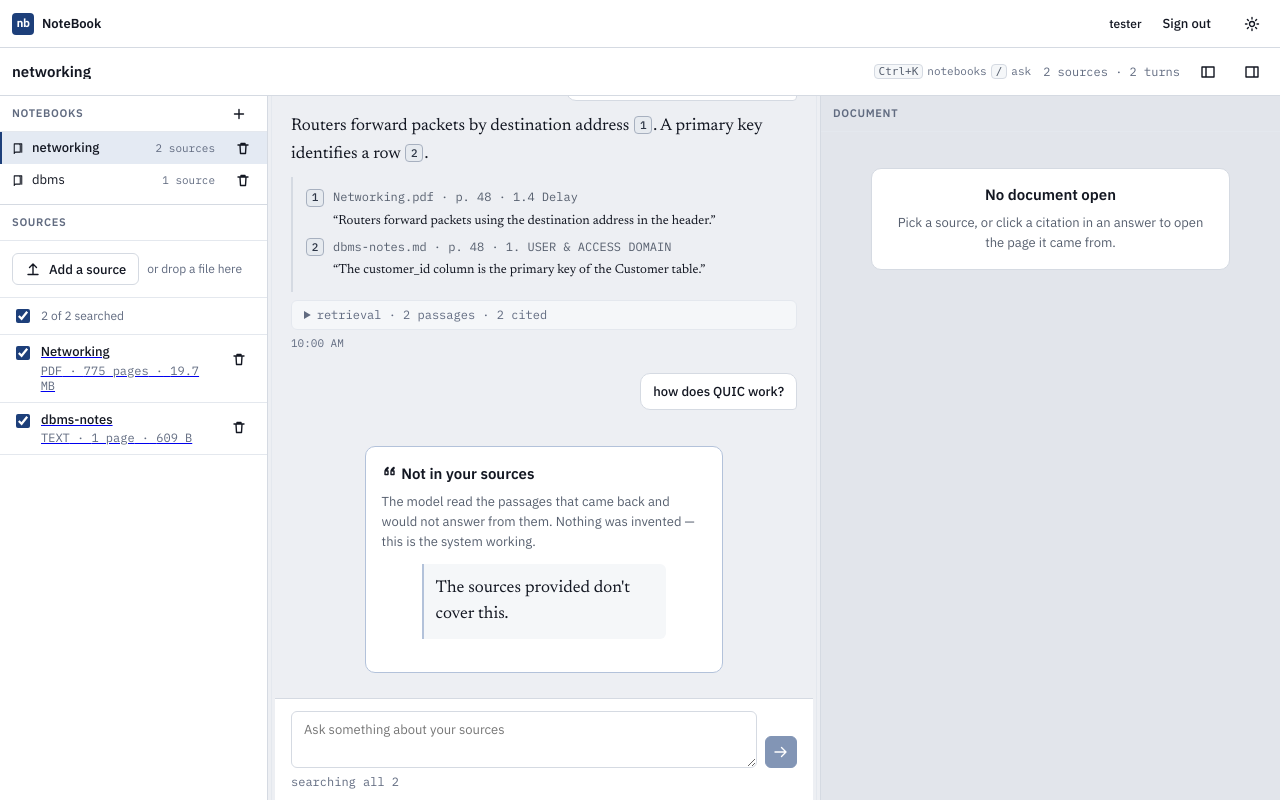
asking a question › refuses to send when every source is unticked
(page scrolled)
Expected: the text "2 of 2 searched" is shown, [41, 310, 124, 322]
Click the checkbox named "Unselect every source". click: x=23, y=316
box: [16, 309, 30, 323]
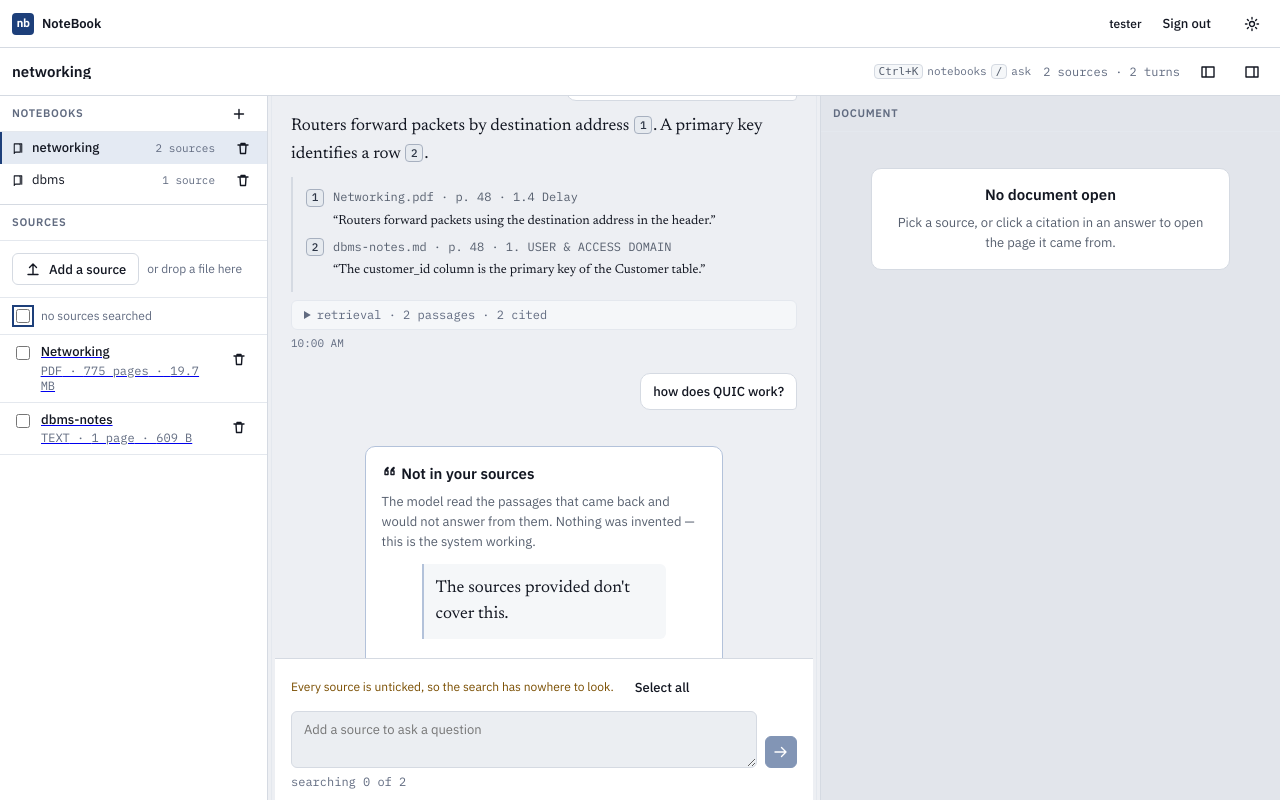
Now the text "Every source is unticked, so the search has nowhere to look." is shown, box [291, 679, 614, 694]
Now the text box named "Your question" is disabled, box [291, 711, 757, 768]
